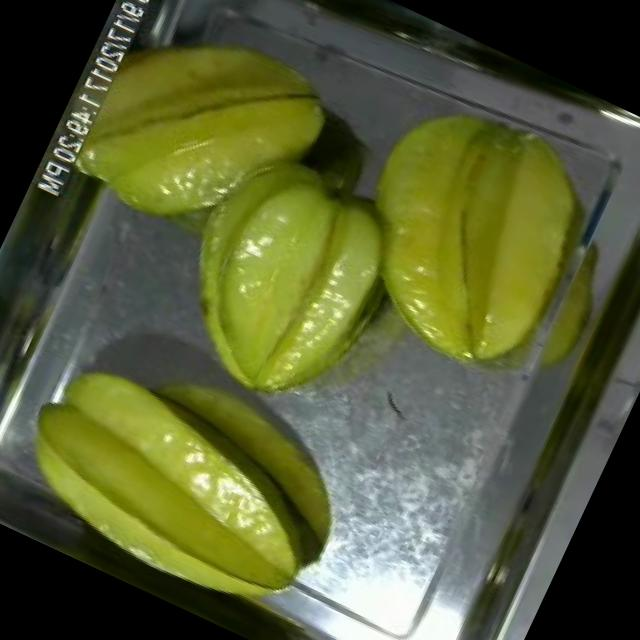fruit: (303, 61, 632, 403), (0, 334, 359, 640), (138, 126, 430, 440), (59, 0, 360, 283)
